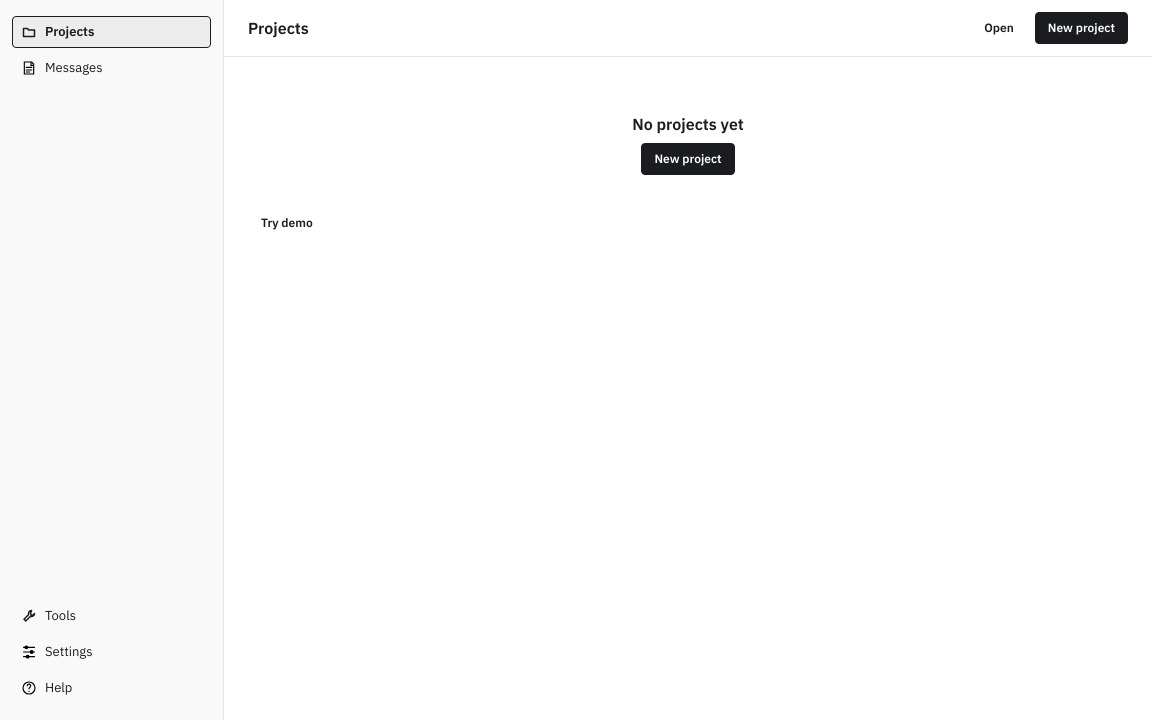
Test case: a refused case verification offers the way back to the folder listing
Check: the navigation bar named "Main" is shown, box top-left (0, 0), bottom-right (224, 719)
What coordinates should you click on to do the following:
click the button "Open"
I would click on:
 (999, 28)
Its box is top-left (971, 12), bottom-right (1027, 44).
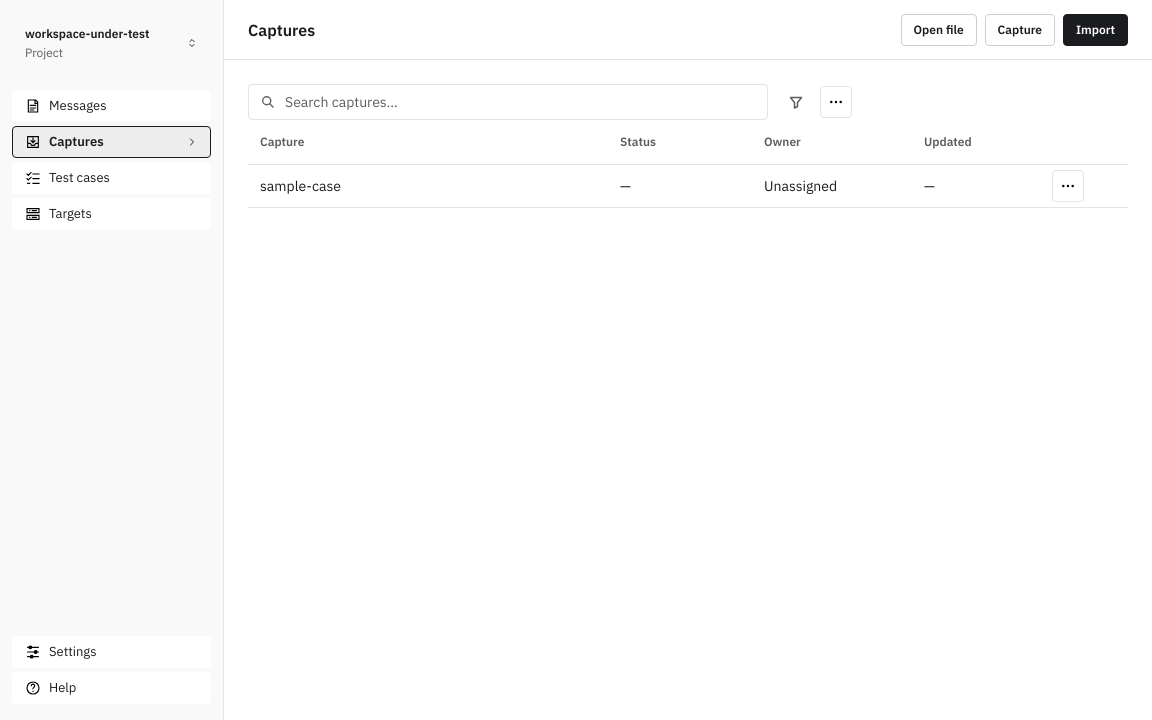
Check: the table "Capture Status Owner Updated sample-case — Unassigned —" is shown, box top-left (248, 120), bottom-right (1128, 208)
What coordinates should you click on to do the following:
click the row "sample-case — Unassigned —"
I would click on:
 (688, 186)
Its box is top-left (248, 164), bottom-right (1128, 208).
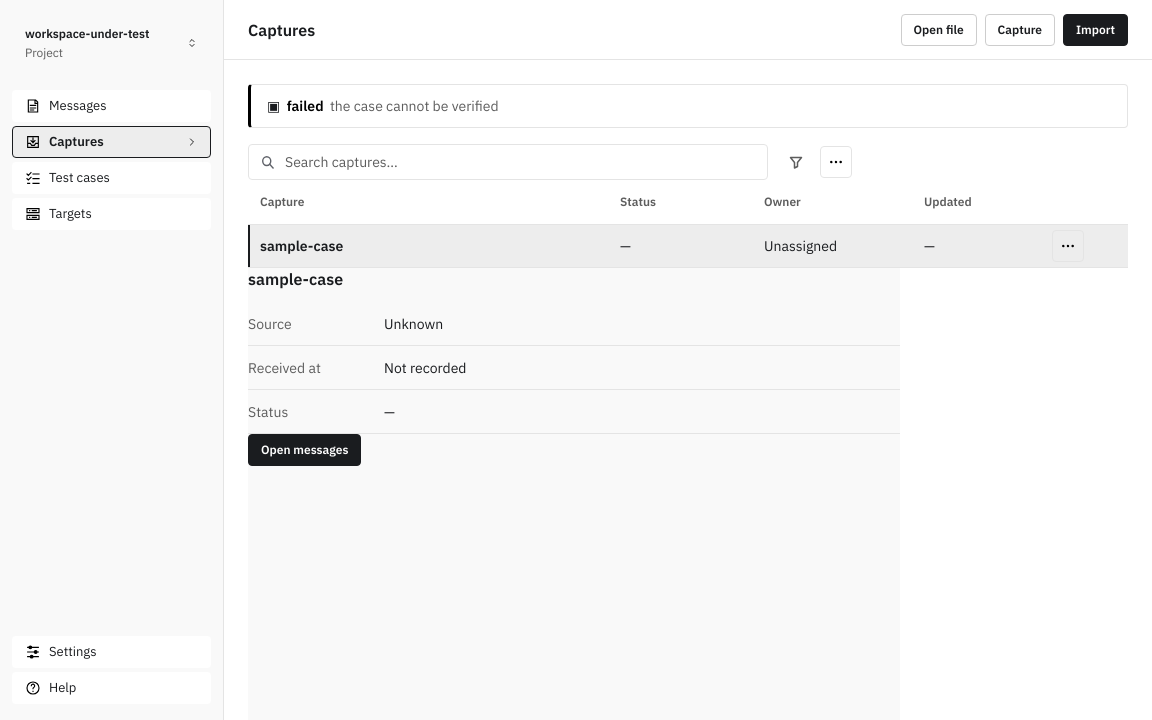
Check: the table "Capture Status Owner Updated sample-case — Unassigned —" is shown, box top-left (248, 180), bottom-right (1128, 268)
Check: the row "sample-case — Unassigned —" is shown, box top-left (248, 225), bottom-right (1128, 268)
Check: the text "the case cannot be verified" is shown, box top-left (330, 96), bottom-right (498, 116)
